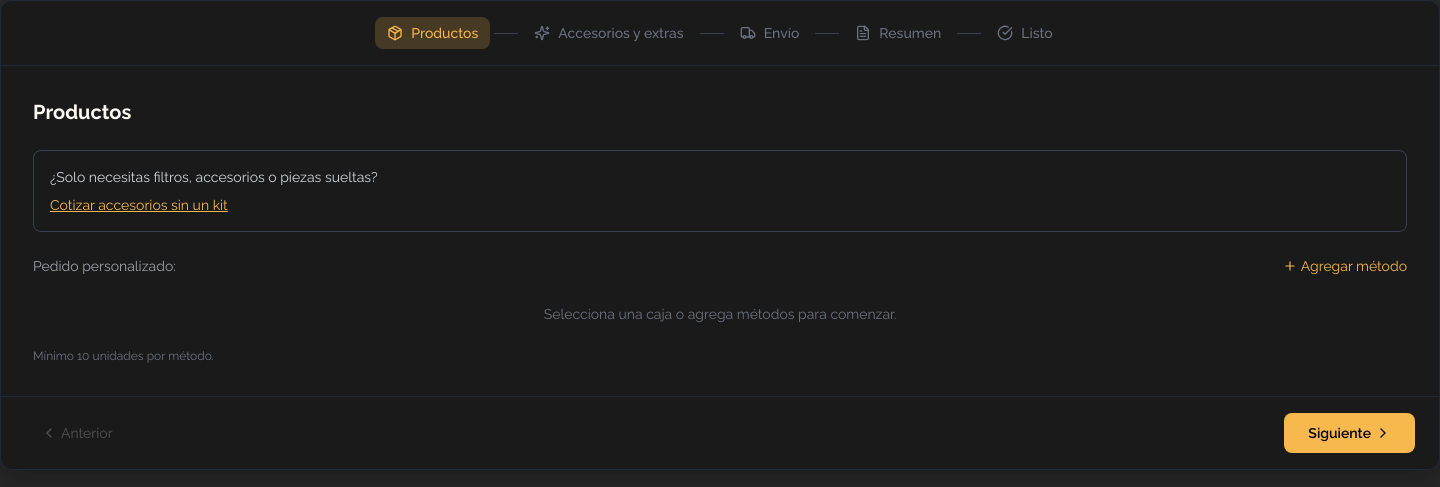
allows an empty first step but blocks submission without a product
This screenshot has width=1440, height=487.
Click the button "Cotizar accesorios sin un kit": (139, 205) [50,195,228,215]
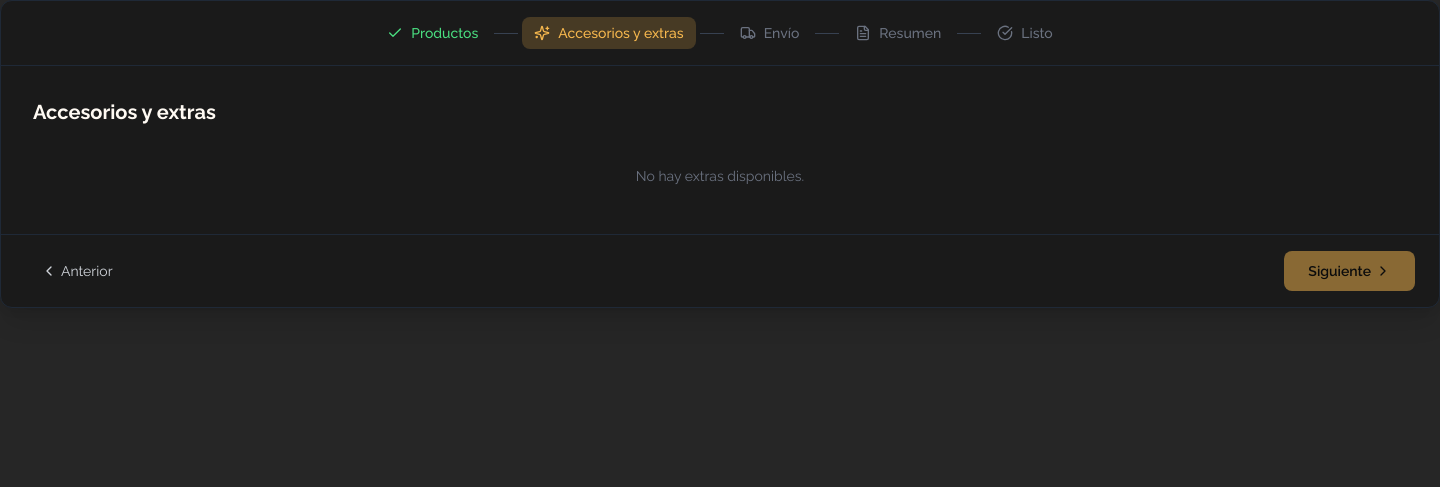
Expected: the button "Siguiente" is disabled, [1284,251,1415,291]
